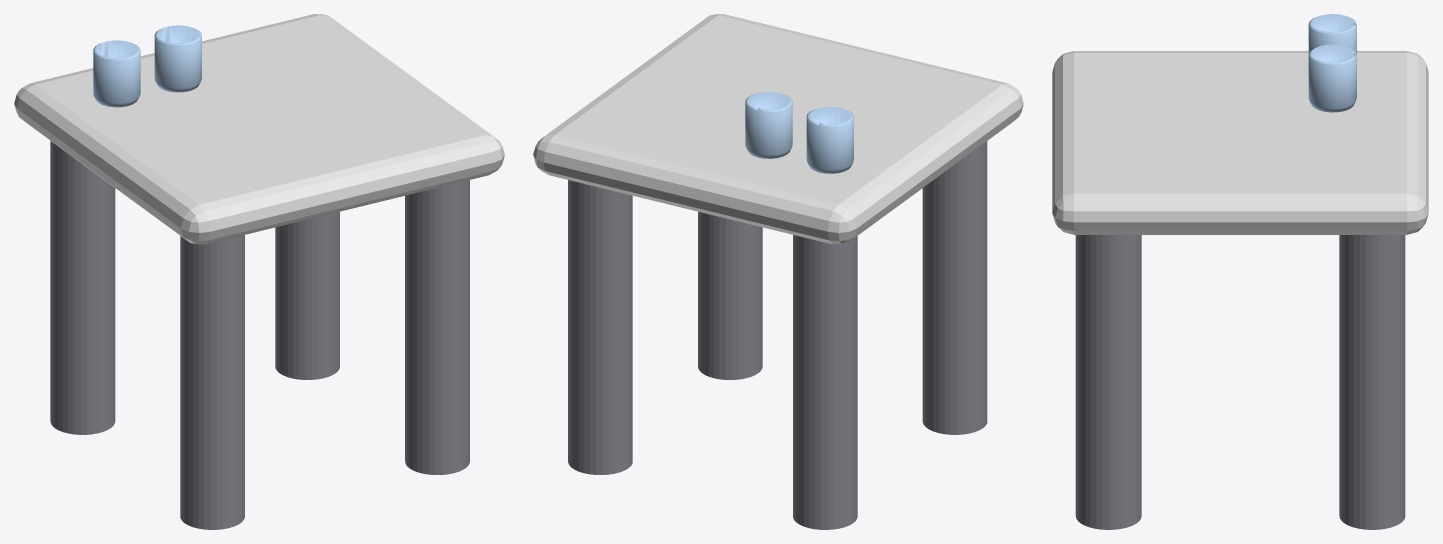
The model's file is столик.glb.
The picture shows the model from 3 angles, left to right: view 1: azimuth 30°, elevation 25°; view 2: azimuth 150°, elevation 25°; view 3: azimuth 270°, elevation 25°; orthographic projection.
Parts seen in each view (by area): view 1: кушетка.001; view 2: кушетка.001; view 3: кушетка.001.
Boxes of the visible parts, x1,y1,x2,y2 form: кушетка.001: (14, 14, 504, 529); кушетка.001: (533, 14, 1023, 529); кушетка.001: (1052, 14, 1428, 529).
Size of the model in its own units: 0.7009 by 0.7984 by 0.7009.
